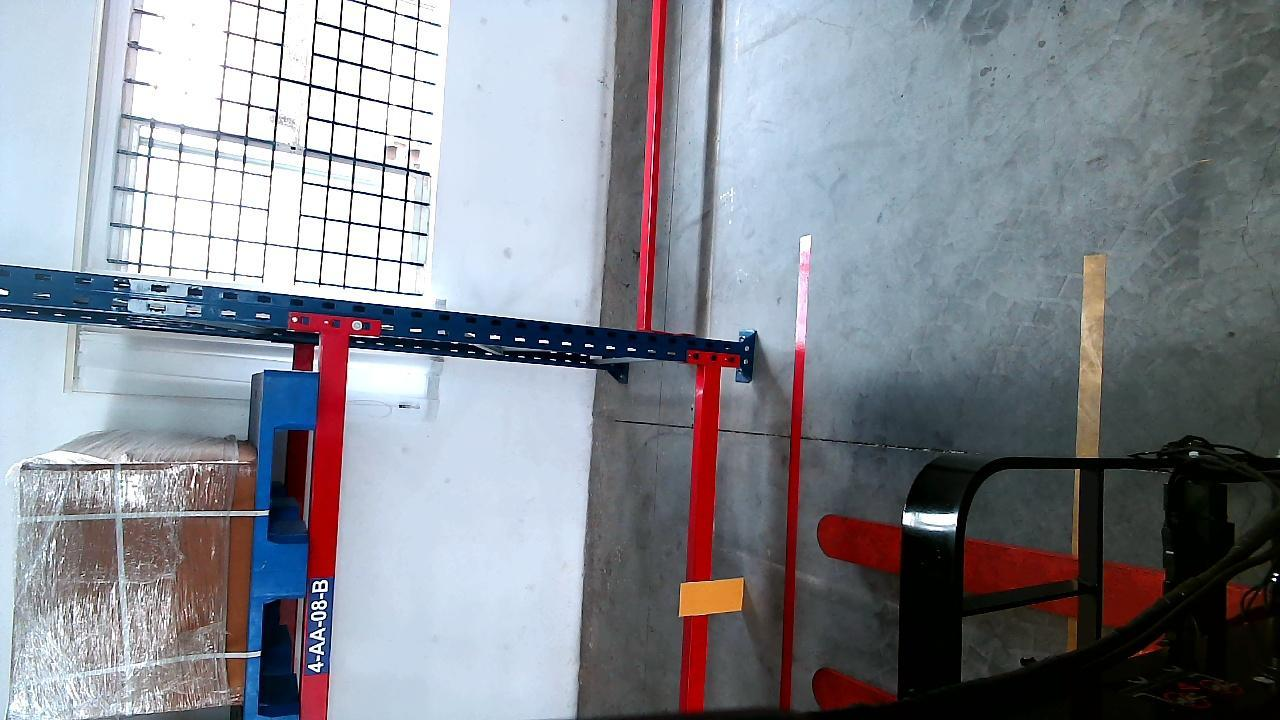red_line: (778, 235, 809, 716)
yellow_line: (1077, 254, 1104, 455)
